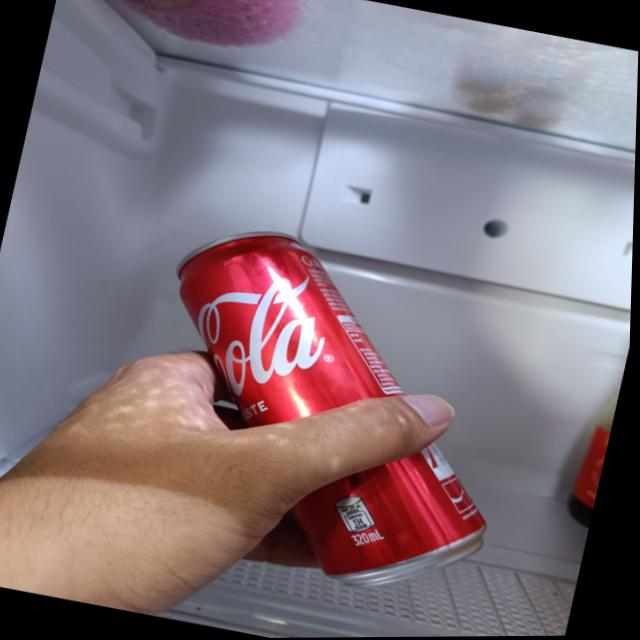coke: (120, 214, 535, 605)
